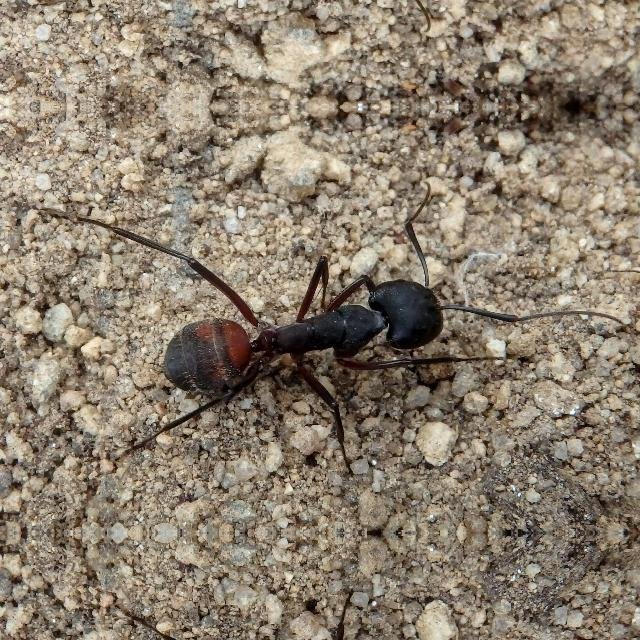Camponotus: (96, 238, 518, 427)
